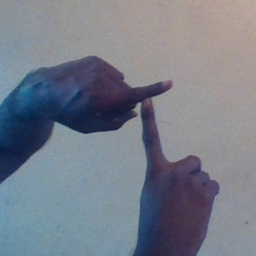T: (110, 67, 197, 190)
